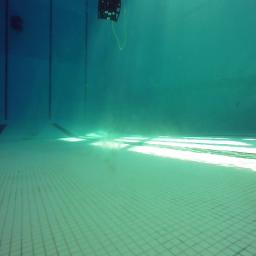front: (98, 0, 122, 22)
